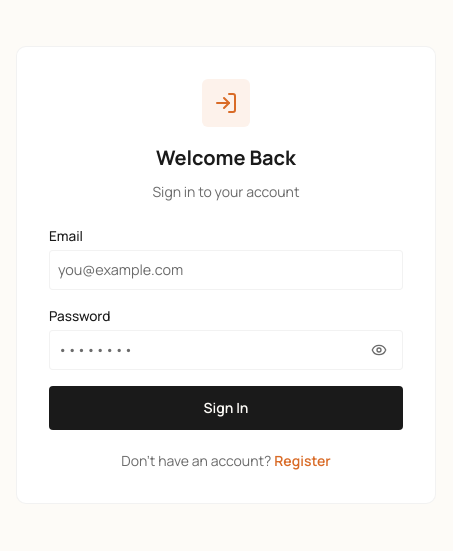
Scenario: LoginPage › shows error on failed login
Type "bad@bad.com" into the field with placeholder "you@example.com" at {"x": 226, "y": 270}, box [49,250,403,290]
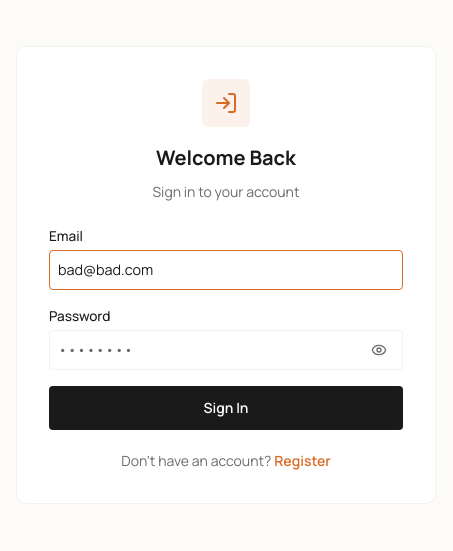
Type "wrong" into the password field with placeholder "••••••••" at {"x": 226, "y": 350}, box [49,330,403,370]
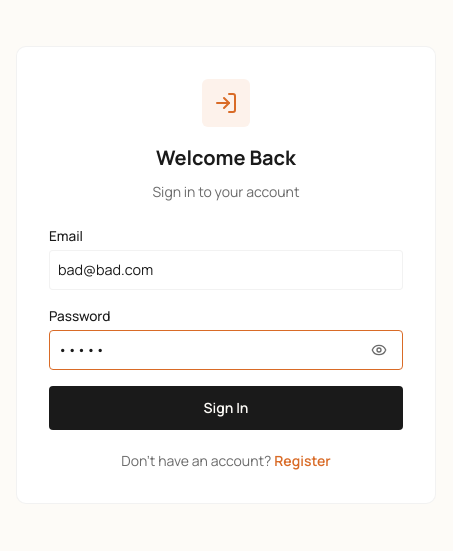
Click the button "Sign In" at {"x": 226, "y": 408}, box [49,386,403,430]
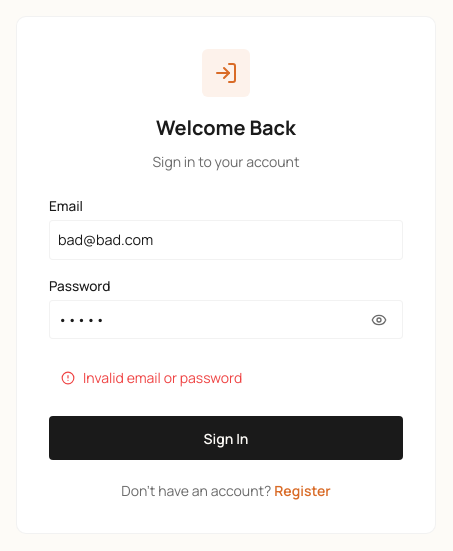
Result: the text "Invalid email or password" is shown at [61,368,242,388]
